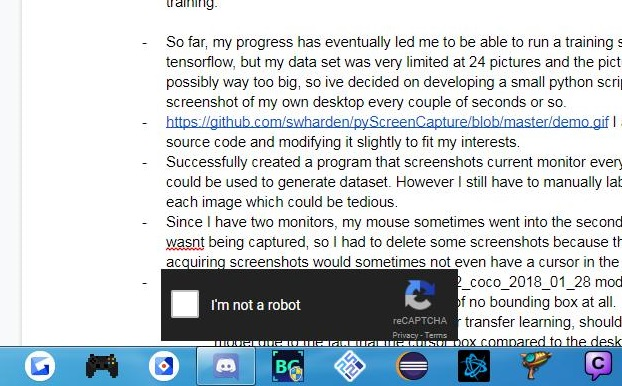captcha: (170, 290, 305, 319)
